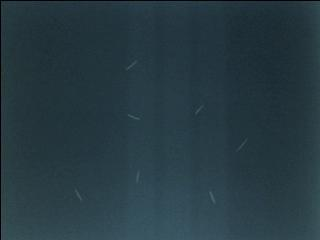scratch: (231, 135, 249, 153), (124, 54, 143, 71), (203, 185, 218, 206), (72, 185, 86, 202), (192, 103, 206, 118), (124, 112, 142, 122), (134, 168, 143, 184)
